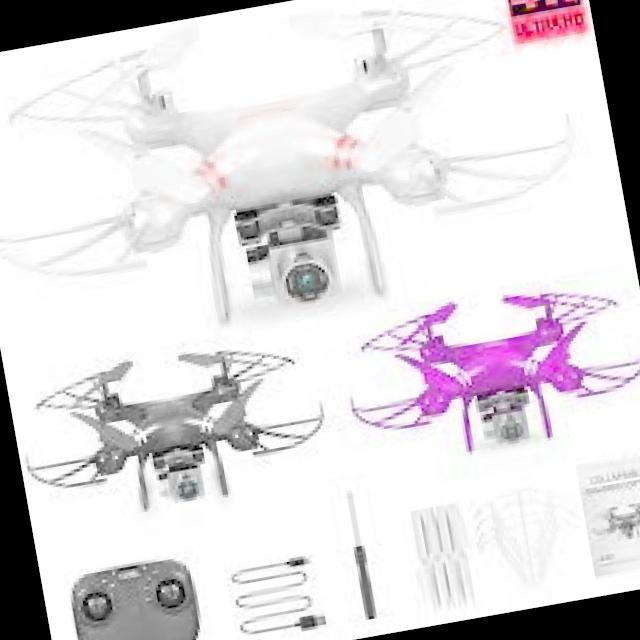drone: (0, 0, 574, 364), (12, 310, 338, 544), (329, 255, 640, 486)
